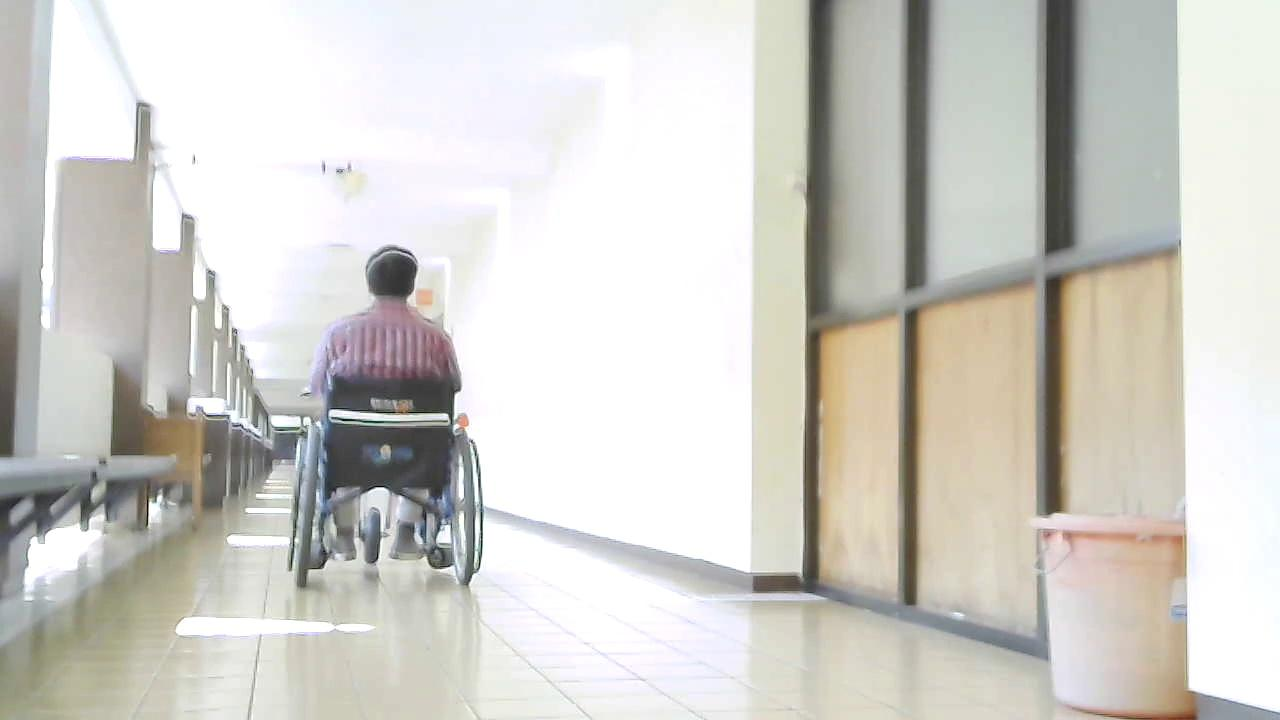person: (305, 244, 463, 571)
wheelchair: (267, 367, 504, 600)
